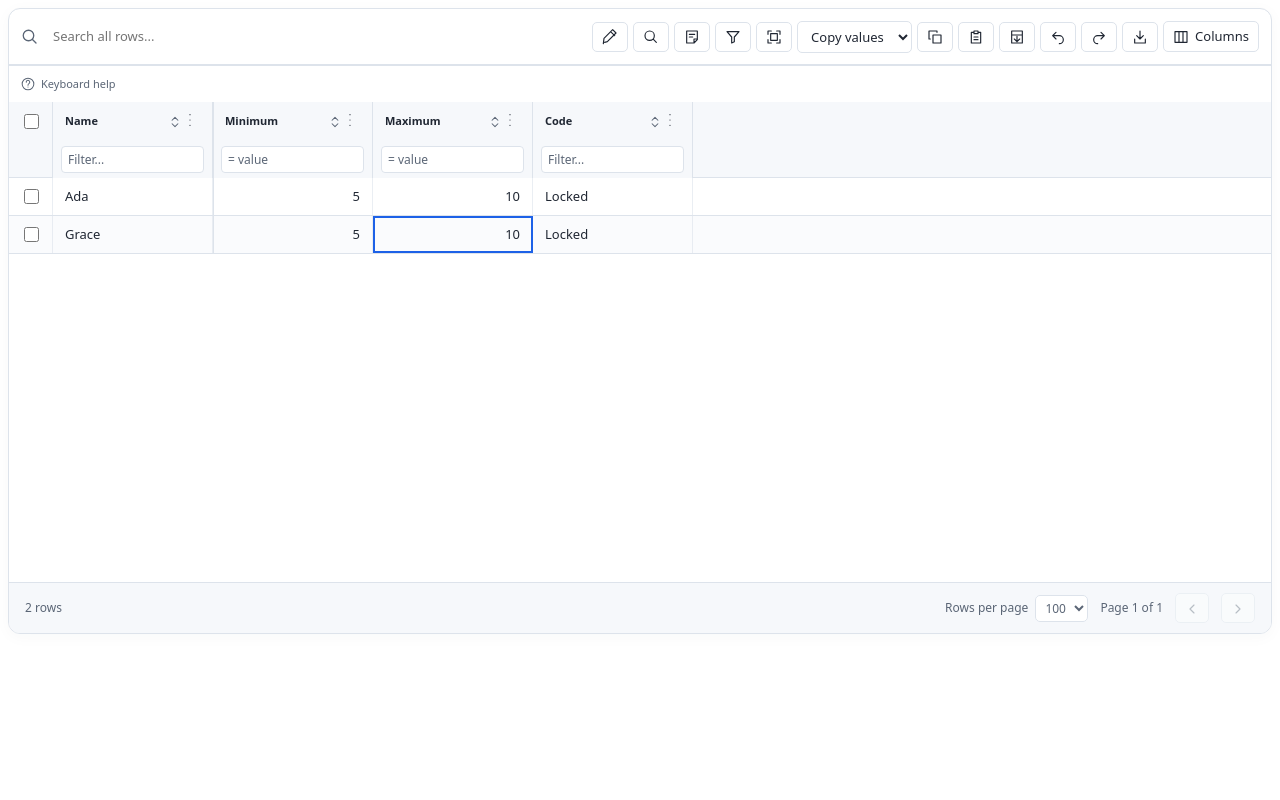
Test case: DataGrid row editing mode › opens the focused row through the toolbar and restores focus after Escape cancellation
Click the button named "Edit row" at (610, 36), box [592, 22, 628, 52]
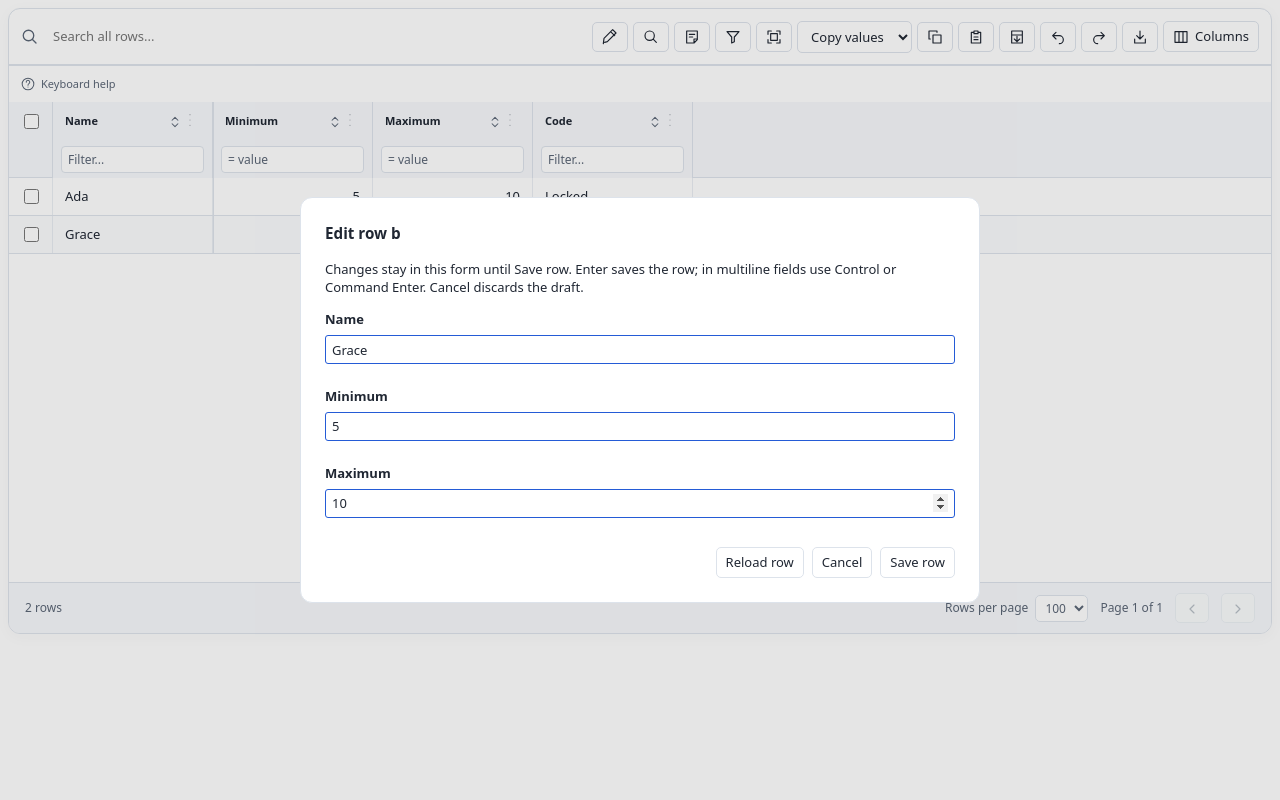
Expected: the dialog "Edit row b" is shown, [300, 197, 980, 603]
Replace the text in the field named "Edit Name" with "Discard" at (640, 350), box [325, 335, 955, 364]
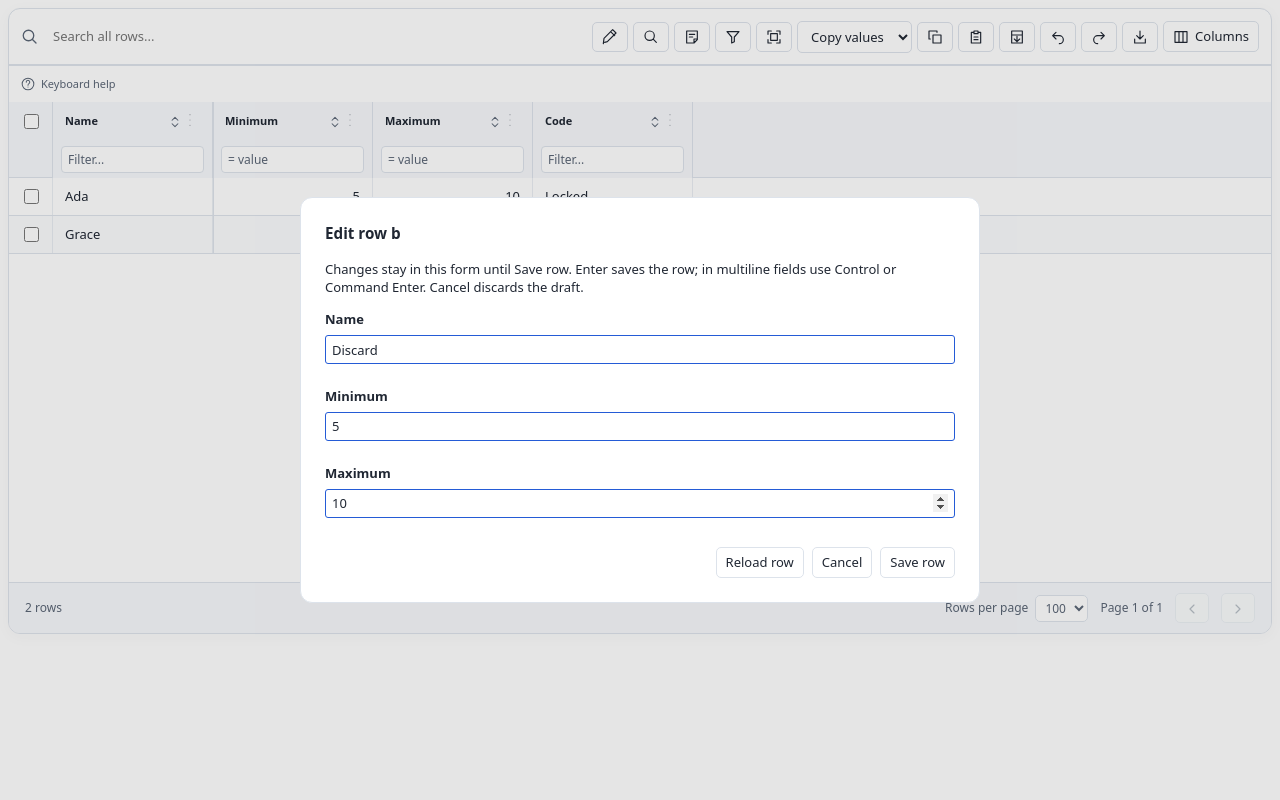
Press Escape in the field named "Edit Name", box [325, 335, 955, 364]
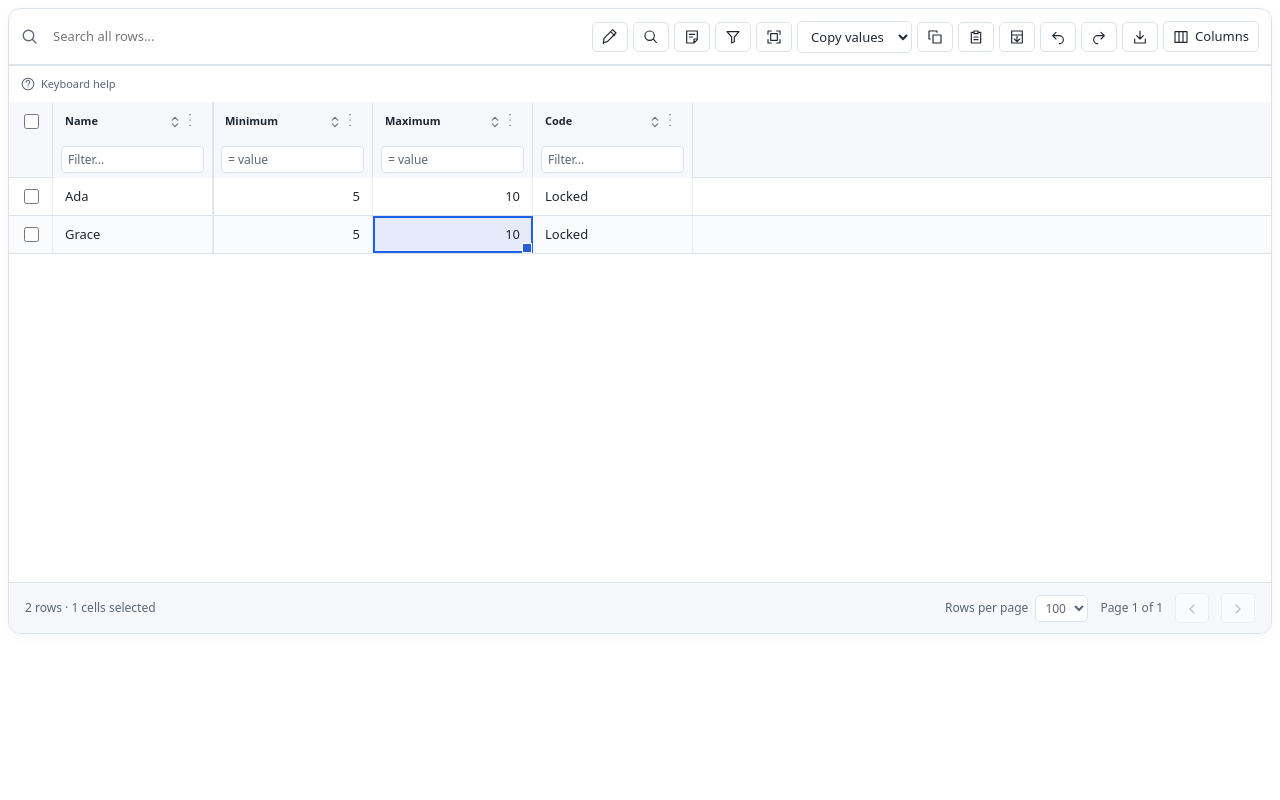
Expected: the text "Grace" is shown, [65, 225, 100, 244]
Expected: the dialog is gone
